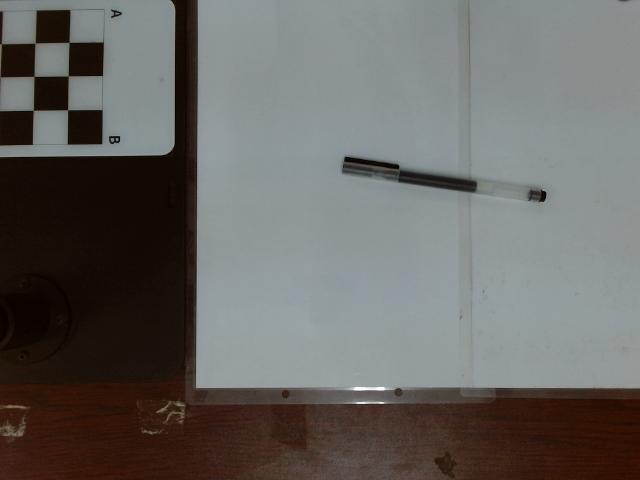PEN: (341, 156, 547, 206)
